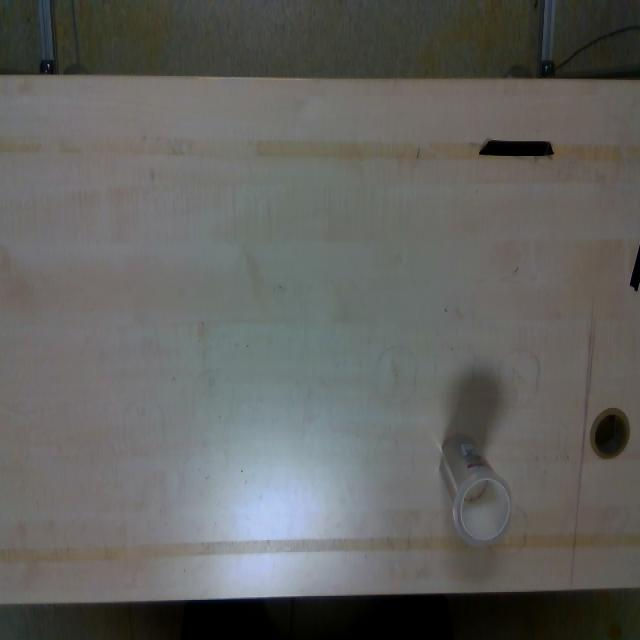cups: (437, 431, 514, 544)
